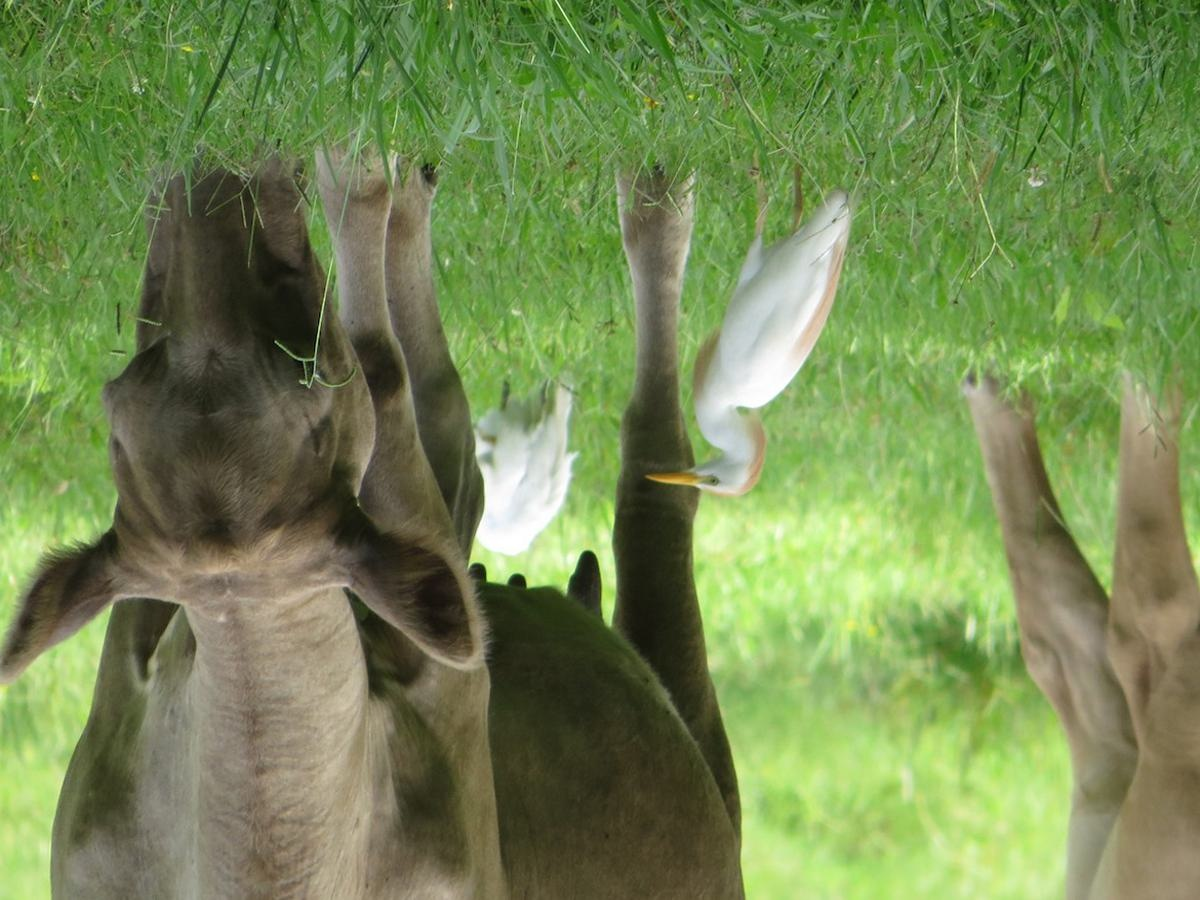egret: (639, 185, 879, 498)
